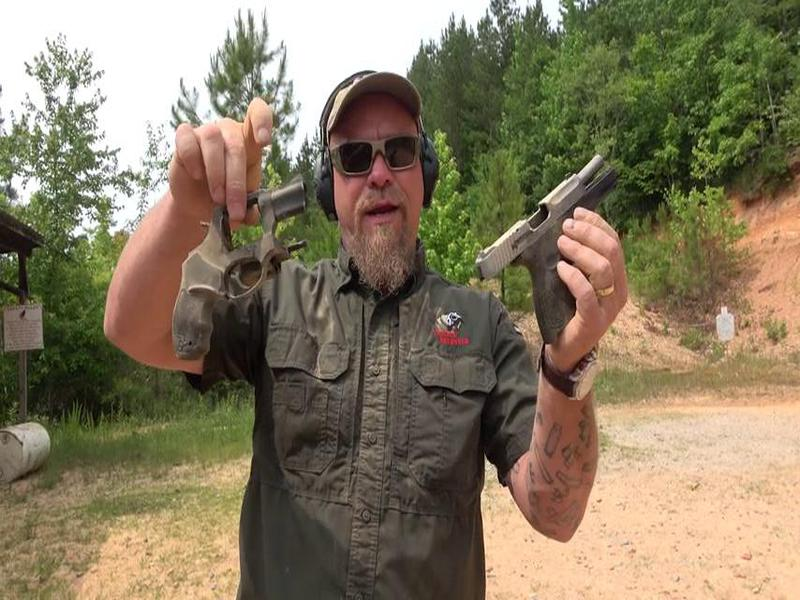Pistola: (475, 149, 627, 346)
Revolver: (157, 171, 318, 377)
